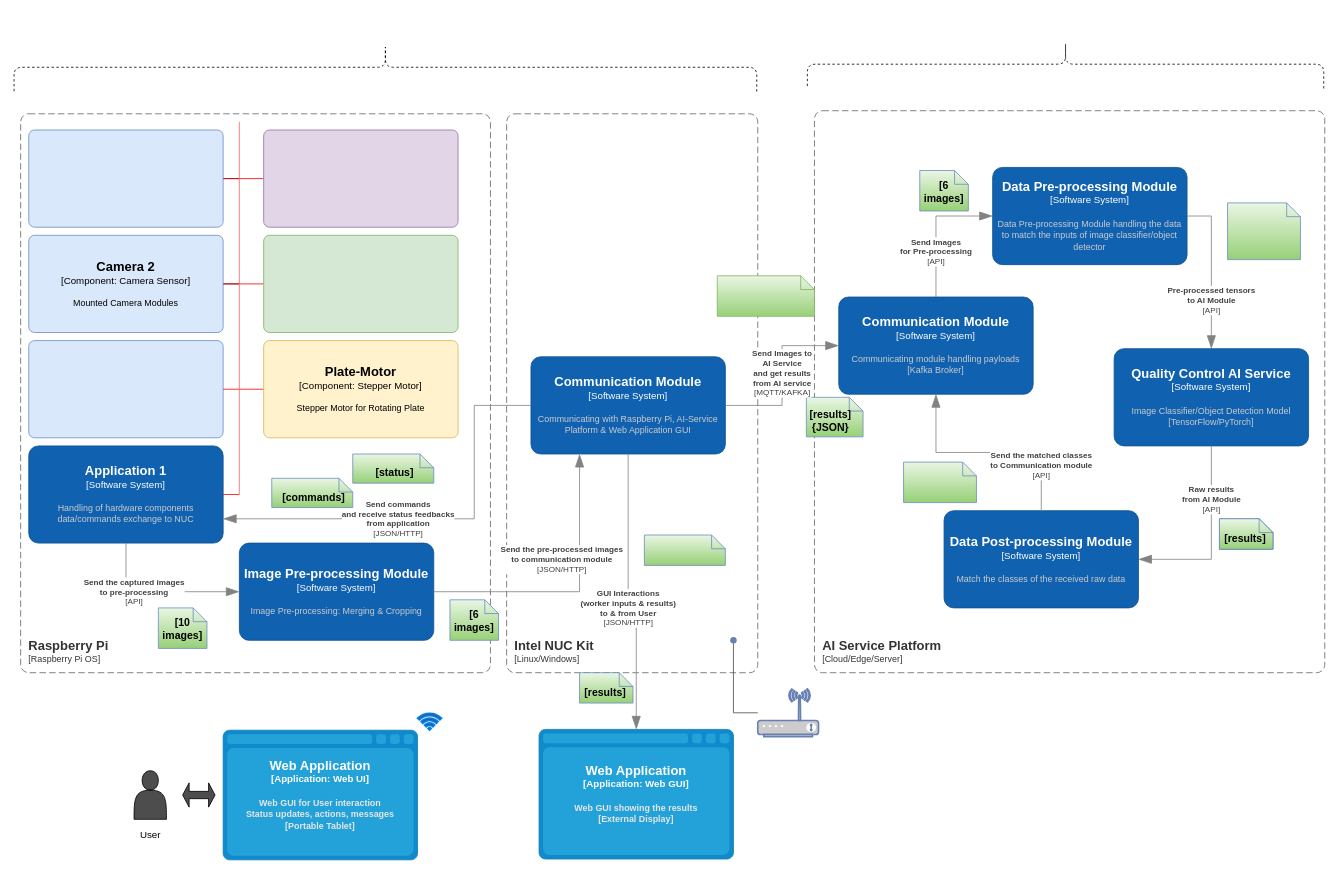
This 1340x875 diagram has some shape labels left out. Each missing label, with the centre of its shape:
"[images] {payload: JSON}" belongs at point 765,295.
"[processed images/ tensors]" belongs at point 1263,231.
"[results] {plain/text}" belongs at point 939,482.
"[worker inputs]" belongs at point 684,549.
"AIaaS Platform" belongs at point 1065,64.
"Camera 1 [Component: Camera Sensor] Mounted Camera Modules" belongs at point 125,178.
"Camera 3 [Component: Camera Sensor] Mounted Camera Modules" belongs at point 125,389.
"LED Lights [Component: Lighting System] Lighting for Cameras" belongs at point 360,178.
"Position Sensor [Component: Position Sensor] Position Sensor for Rotating Plate" belongs at point 360,283.
"QS4PAUL" belongs at point 385,67.
